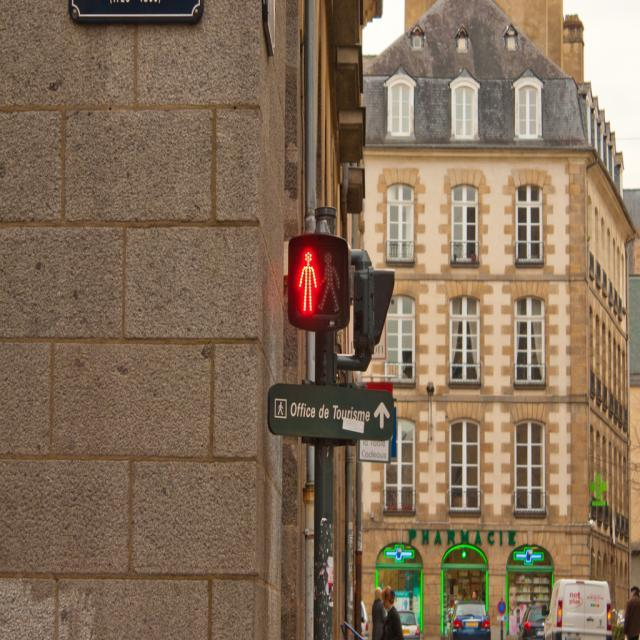traffic light: (287, 234, 347, 323)
